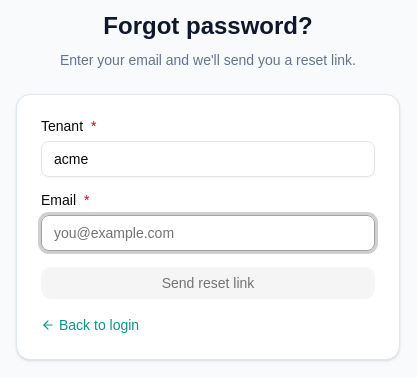
Test: ForgotPasswordPage tenant › submit_ShouldShowTheSameConfirmation_WhenTheApiAnswers 200 (Platform answers 200 for an unknown email too)
This screenshot has width=417, height=378.
Type "nobody@acme.test" into the field with id "forgot-email". click: (208, 233)
box: [41,215,375,251]
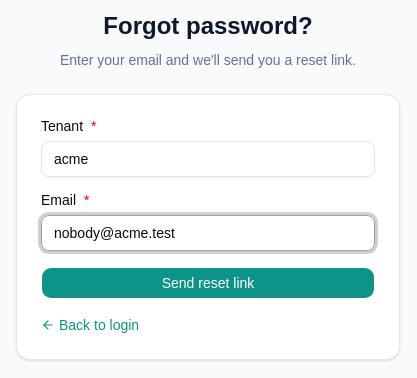
Submit the form with id "forgot-email", box [41,119,375,299]
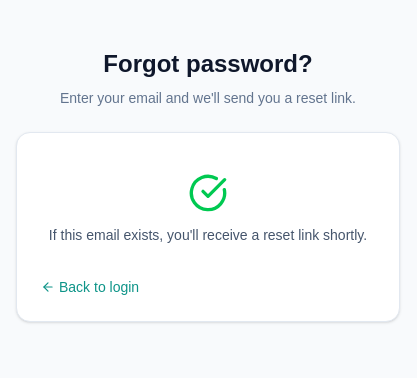
Result: the element with test id "forgot-sent" reads "If this email exists, you'll receive a reset link shortly." at [49,227,367,243]
